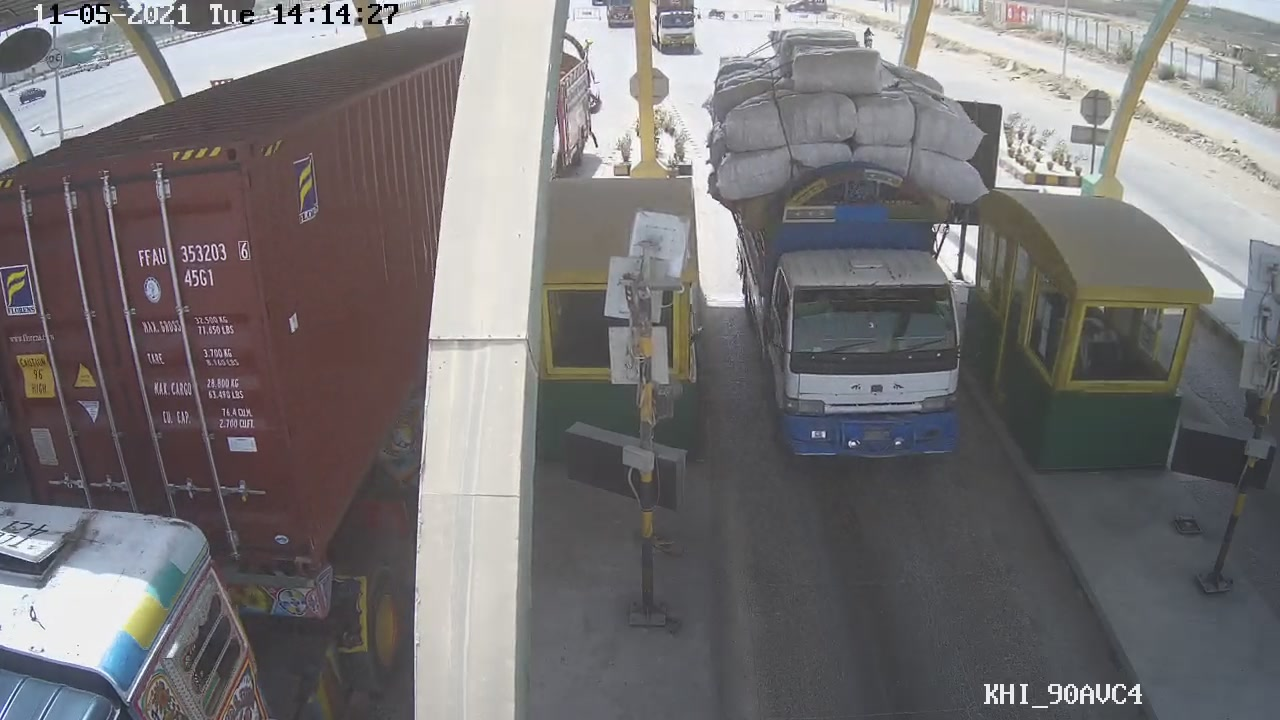F5: (709, 76, 1013, 473)
